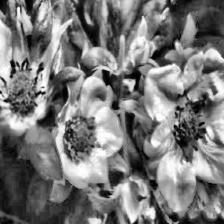Blossom Blight: (0, 53, 52, 128), (164, 88, 210, 166)
